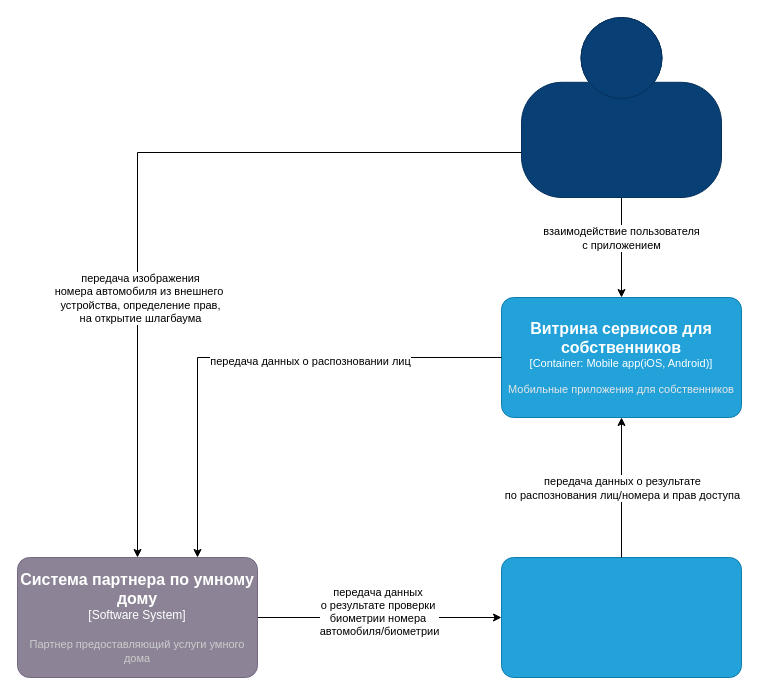
The diagram is 759 pixels wide and 695 high, and some of its shapes have lost their labels. The shapes that lost their labels are listed below. From the top down, each one's centre as x and y in pixels, then its label:
pixel 621 107: Собственник [Person] Клиент
pixel 621 617: propDevelopment [Container: all systems] Система в целом
